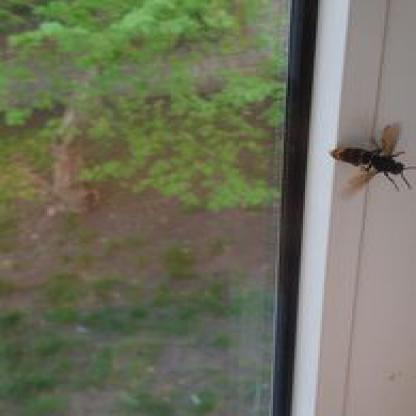Asian Hornet: (309, 123, 414, 197)
